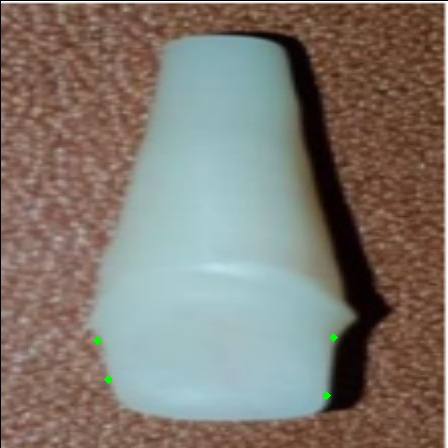coin_1: (333, 337, 353, 357)
coin_2: (326, 395, 346, 415)
coin_3: (97, 340, 117, 360)
coin_4: (108, 379, 128, 399)
